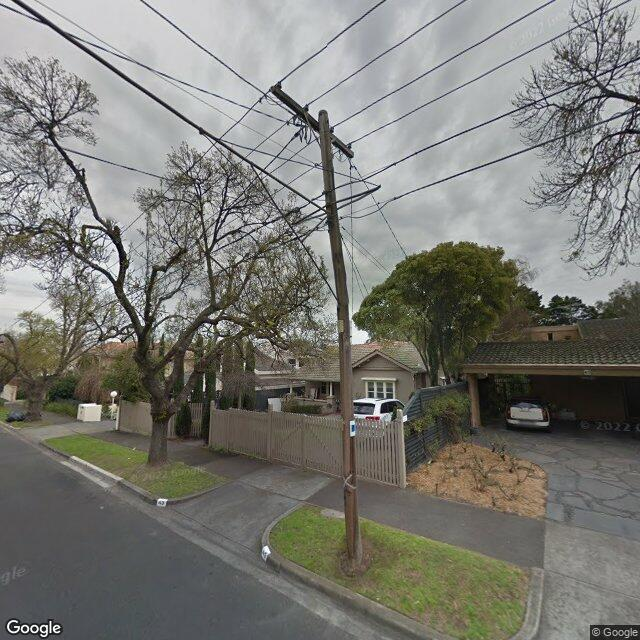crossarm: (271, 86, 354, 158)
streetlight: (13, 0, 330, 216)
timber-pole: (318, 110, 362, 568)
